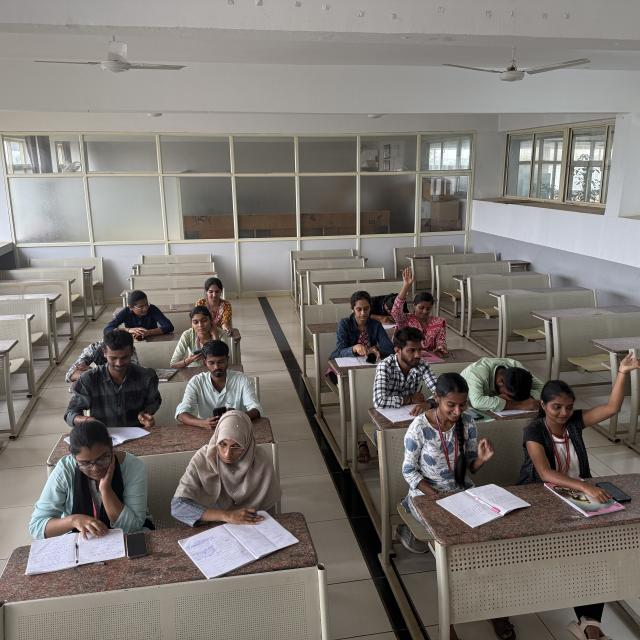Hand Rising: (522, 343, 632, 476), (395, 268, 448, 342)
Reading: (32, 421, 156, 566), (175, 415, 285, 535)
Sleeping: (466, 351, 546, 408), (367, 289, 407, 330)
Using Phone: (172, 342, 265, 428), (170, 306, 231, 368), (102, 290, 173, 343)
Writing: (64, 328, 162, 434)
